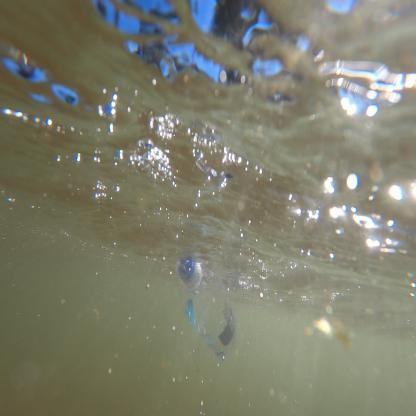Rác: (166, 233, 252, 370)
